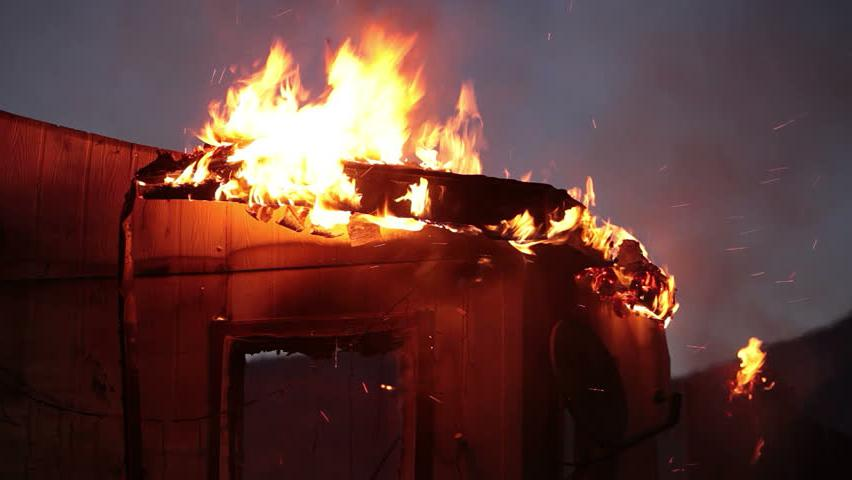fire: (192, 17, 487, 266), (507, 171, 678, 330), (731, 332, 775, 407)
